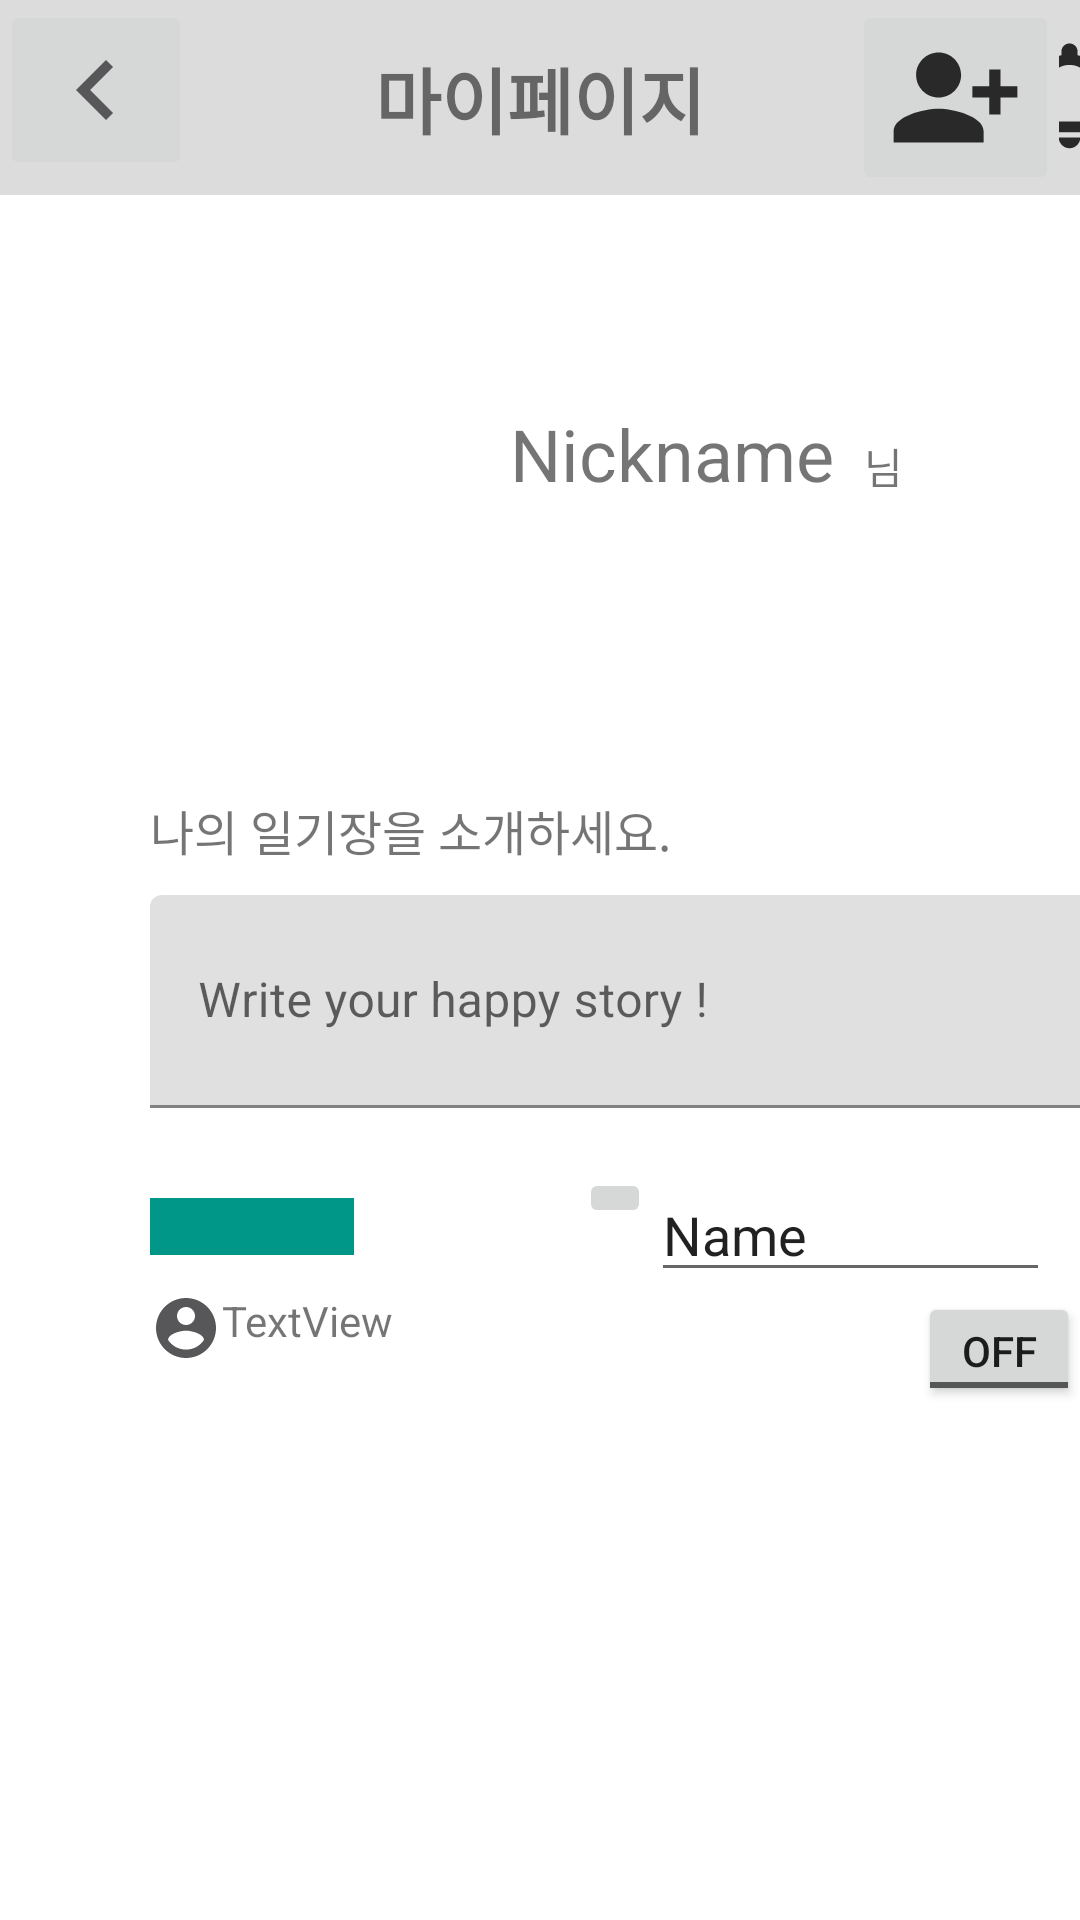

Icon click points for this 1080*1920 phone screenshot, format [x,y]:
account circle: [186,1328]
arrow: [94,90]
person add: [955,97]
